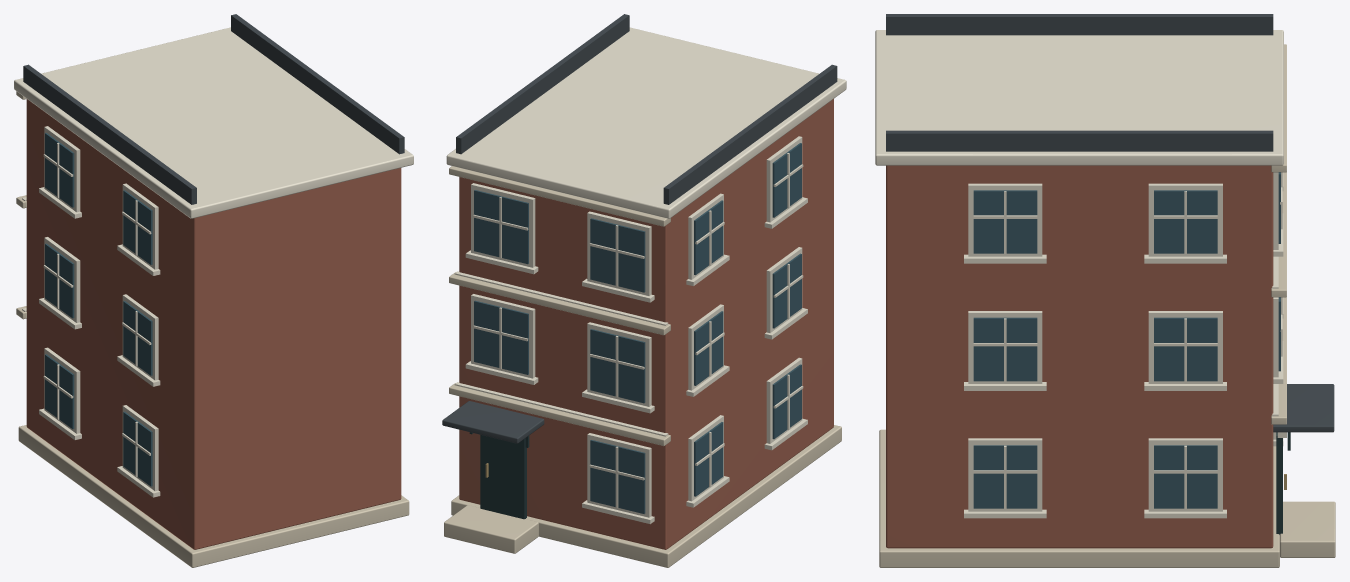
File: brickTownhouse.glb
3 renders of one model, left to right at view 1: azimuth 30°, elevation 25°; view 2: azimuth 150°, elevation 25°; view 3: azimuth 270°, elevation 25°, orthographic. The views are drawn at different scales.
Visible parts, largest first — view 1: Terracotta brick, Ivory trim, Window glass, Limestone, Slate roof; view 2: Terracotta brick, Ivory trim, Window glass, Limestone, Slate roof, Dark metal; view 3: Terracotta brick, Ivory trim, Window glass, Slate roof, Limestone, Dark metal.
Boxes of the visible parts, bbox=[...] form: Terracotta brick: bbox=[26, 99, 401, 549]; Ivory trim: bbox=[14, 27, 413, 497]; Window glass: bbox=[45, 133, 152, 486]; Limestone: bbox=[16, 91, 409, 567]; Slate roof: bbox=[23, 14, 404, 204]; Terracotta brick: bbox=[459, 99, 833, 549]; Ivory trim: bbox=[446, 27, 846, 524]; Window glass: bbox=[474, 143, 801, 513]; Limestone: bbox=[444, 166, 841, 567]; Slate roof: bbox=[442, 14, 837, 443]; Dark metal: bbox=[469, 432, 529, 519]; Terracotta brick: bbox=[886, 165, 1273, 548]; Ivory trim: bbox=[875, 30, 1286, 518]; Window glass: bbox=[973, 172, 1280, 508]; Slate roof: bbox=[886, 14, 1334, 432]; Limestone: bbox=[879, 44, 1335, 567]; Dark metal: bbox=[1276, 432, 1290, 534].
Size of the model in its own units: 5.6 by 9.02 by 8.67.
